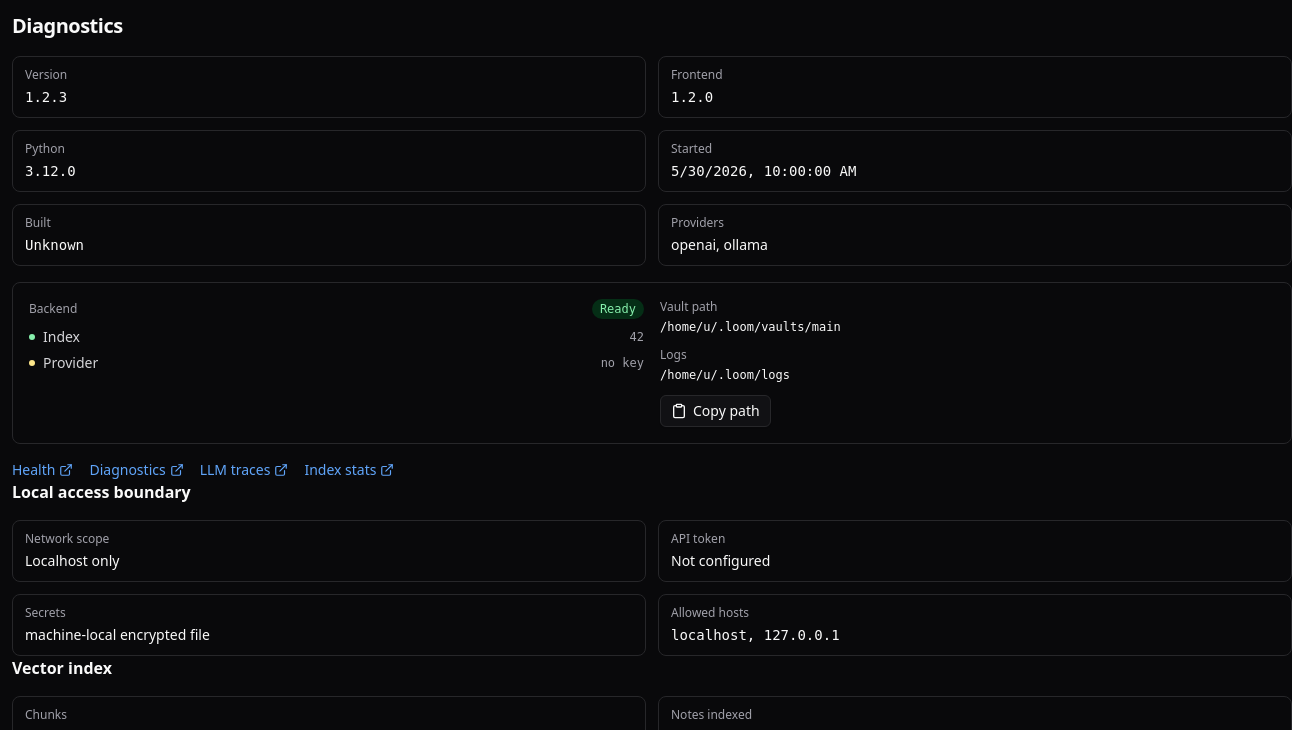
Test: AboutSection › copies the vault path to the clipboard
The image size is (1292, 730).
Expected: the text "1.2.3" is shown, 25,89 -> 67,105
What coordinates should you click on to do the following:
click the button "Copy path"
I would click on:
 (715, 411)
Its box is 660,395 -> 771,427.
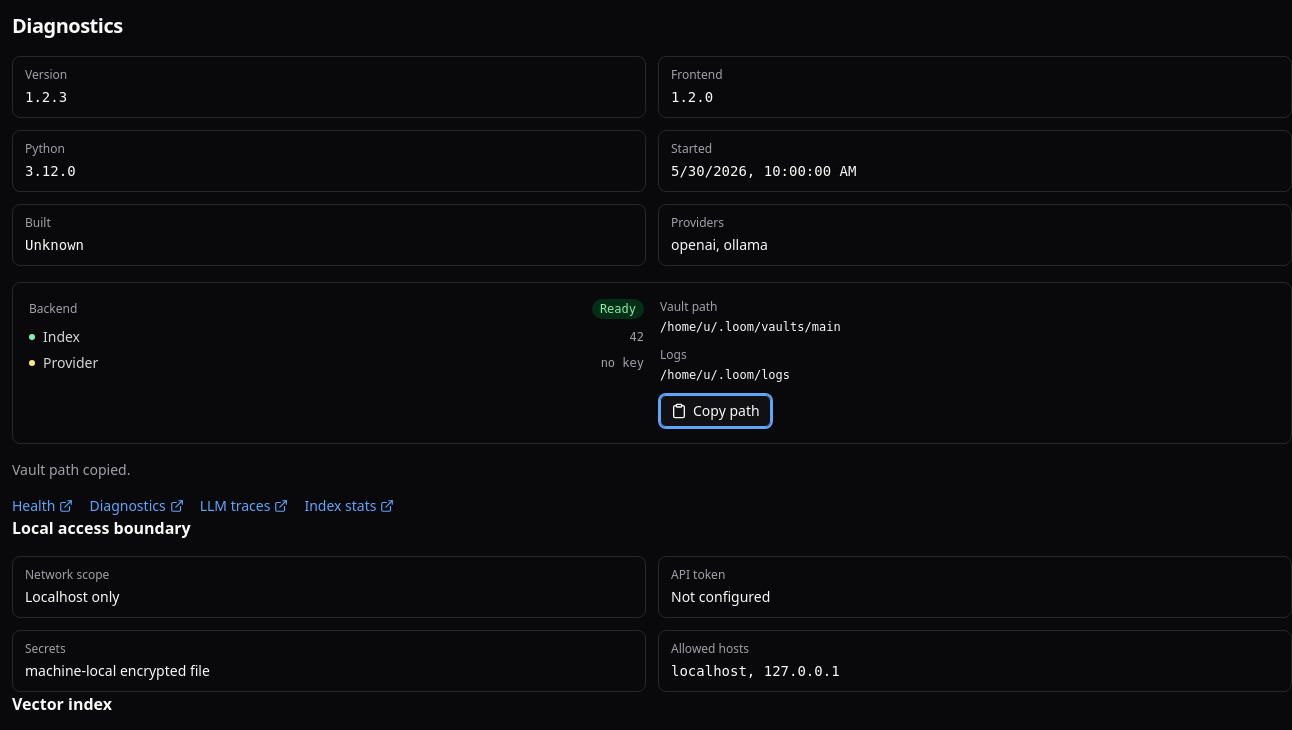
Expected: the text "Vault path copied." is shown, 12,460 -> 130,479
